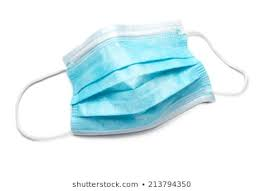mask: (65, 21, 212, 128)
